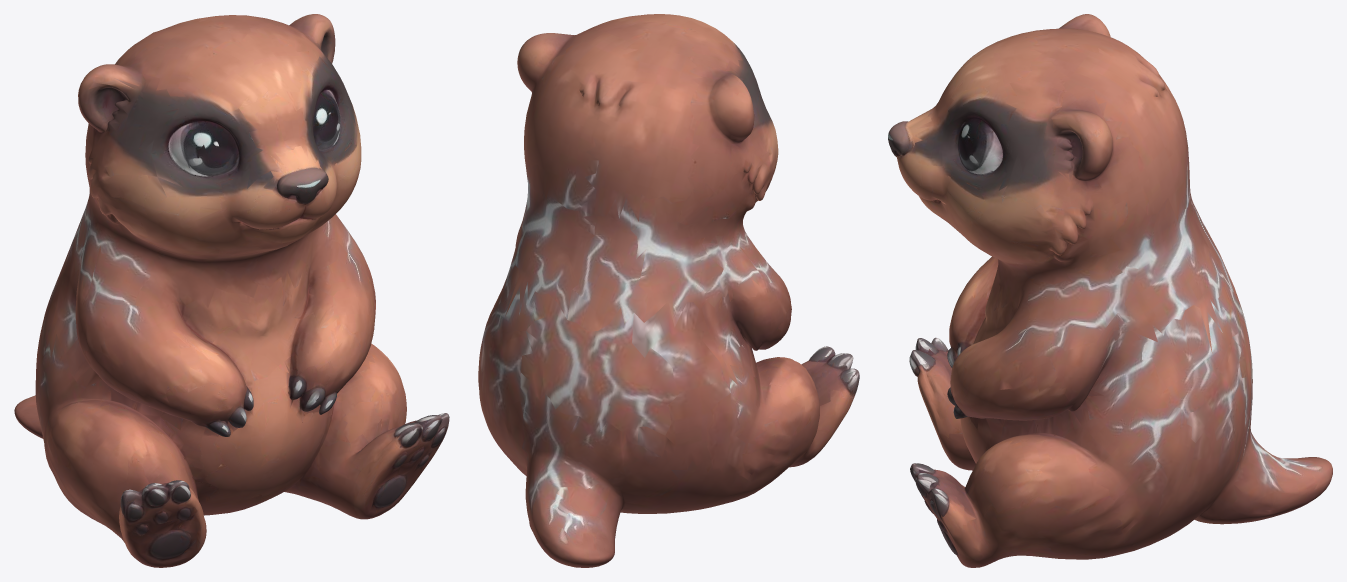
The picture shows the model from 3 angles, left to right: view 1: azimuth 30°, elevation 25°; view 2: azimuth 150°, elevation 25°; view 3: azimuth 270°, elevation 25°; orthographic projection. The views are drawn at different scales.
Parts seen in each view (by area): view 1: Mesh_0; view 2: Mesh_0; view 3: Mesh_0.
Part boxes in pixels (x1,y1,x2,y2): Mesh_0: [14, 14, 449, 567]; Mesh_0: [478, 14, 859, 567]; Mesh_0: [888, 14, 1332, 567].
Size of the model in its own units: 1.37 by 1.9 by 1.64.
Materials: 1 (1 with a texture image).
